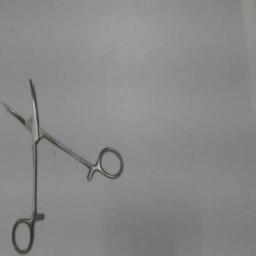Crile Artery Forceps: (0, 71, 126, 255)
